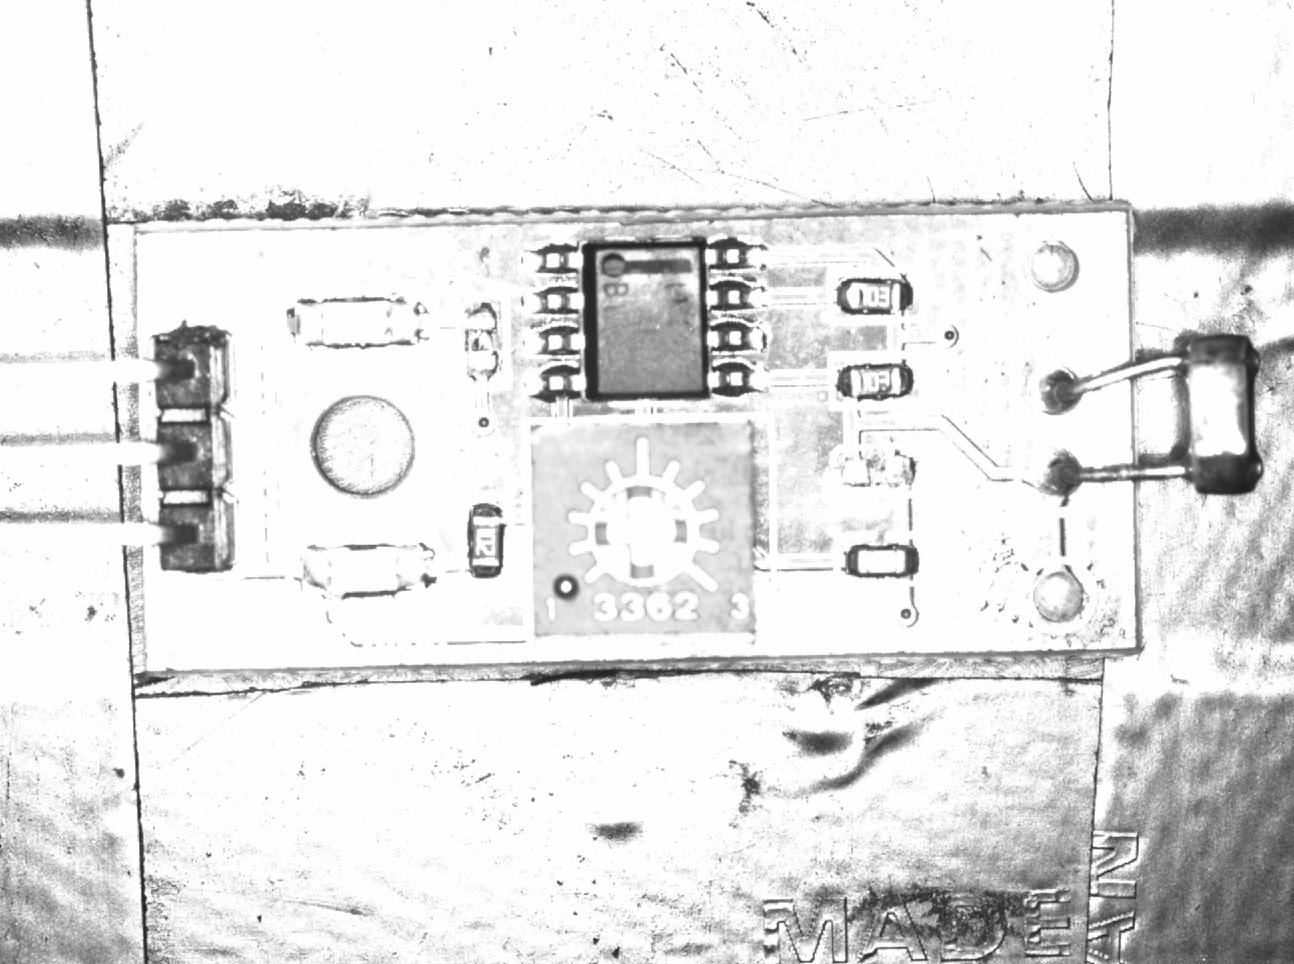miss: (831, 445, 921, 499), (456, 291, 504, 385)
ok: (823, 266, 919, 328), (829, 355, 920, 410), (831, 534, 925, 585), (459, 496, 510, 583)
